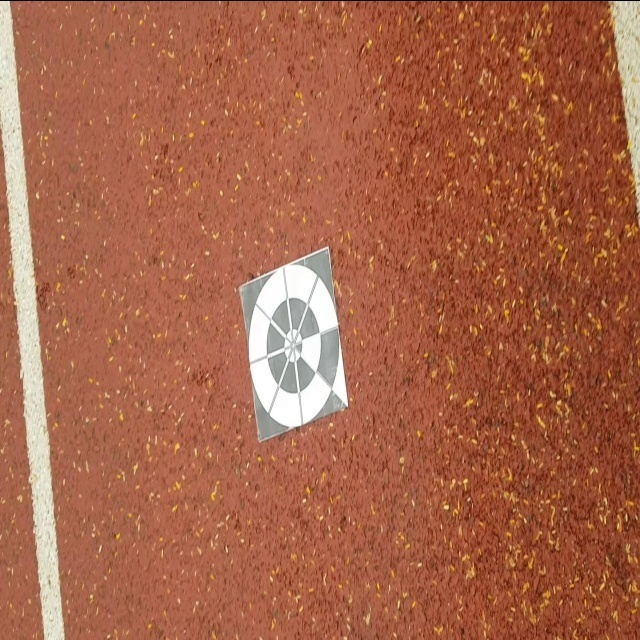landing-zone: (237, 243, 354, 441)
